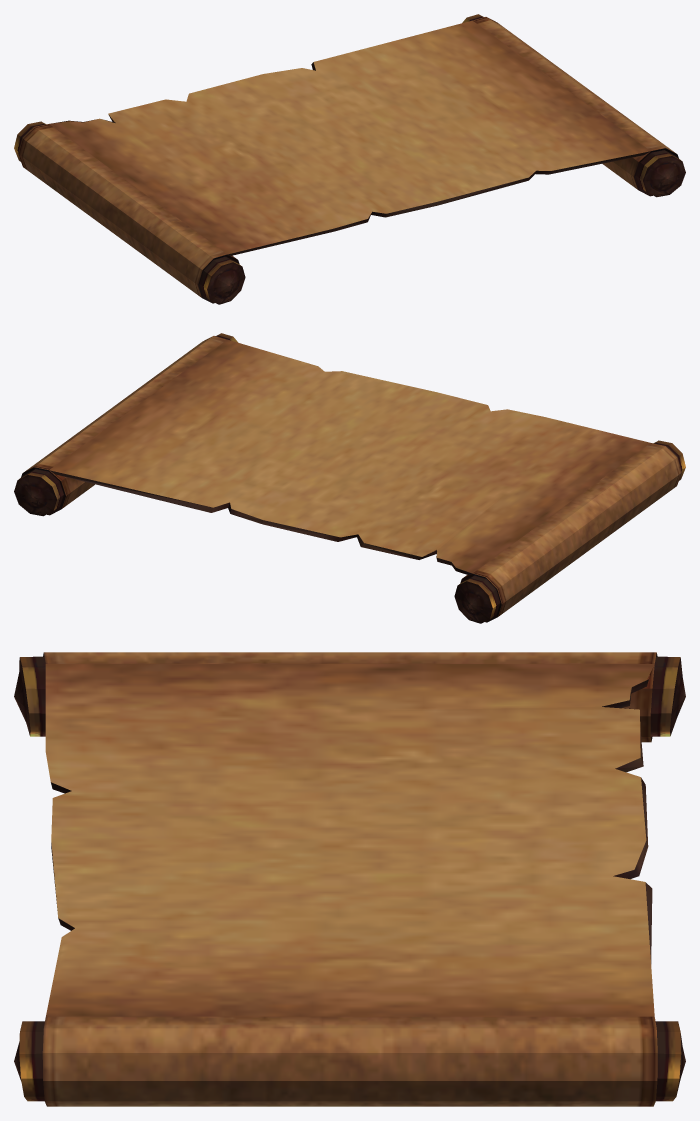
Rendered from treasure_wuge_03.obj.
The picture shows the model from 3 angles, top to bottom: view 1: azimuth 30°, elevation 25°; view 2: azimuth 150°, elevation 25°; view 3: azimuth 270°, elevation 25°; orthographic projection. The views are drawn at different scales.
Parts seen in each view (by area): view 1: Treasure_WuGe_03; view 2: Treasure_WuGe_03; view 3: Treasure_WuGe_03.
Boxes of the visible parts, <box> form: Treasure_WuGe_03: <box>14,14,685,304</box>; Treasure_WuGe_03: <box>14,333,685,623</box>; Treasure_WuGe_03: <box>14,652,685,1106</box>.
Bounding box in the file's own units: 116 × 10.53 × 81.89.
Materials: 1 (1 with a texture image).
